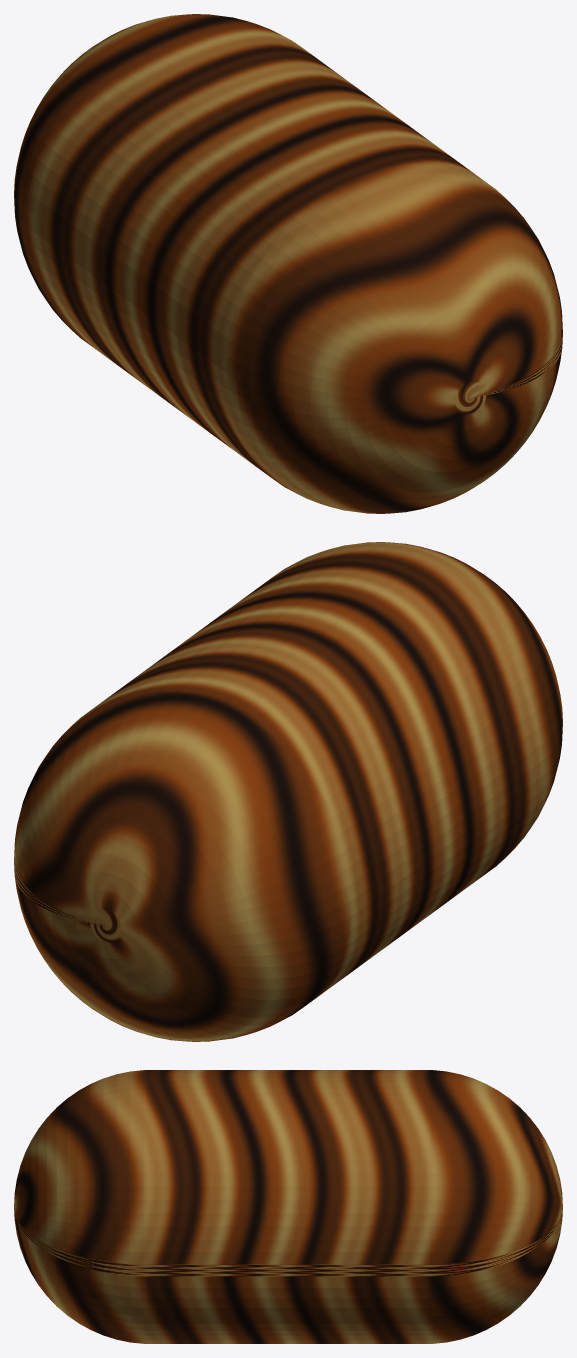
Rendered from capsule-warm-amber.glb.
The picture shows the model from 3 angles, top to bottom: view 1: azimuth 30°, elevation 25°; view 2: azimuth 150°, elevation 25°; view 3: azimuth 270°, elevation 25°; orthographic projection. The views are drawn at different scales.
Visible parts, largest first — view 1: world; view 2: world; view 3: world.
Boxes of the visible parts, x1,y1,x2,y2 form: world: (14, 14, 562, 513); world: (14, 542, 562, 1041); world: (14, 1070, 562, 1343).
Size of the model in its own units: 0.6991 by 0.6991 by 1.4.
Materials: 1 (1 with a texture image).
